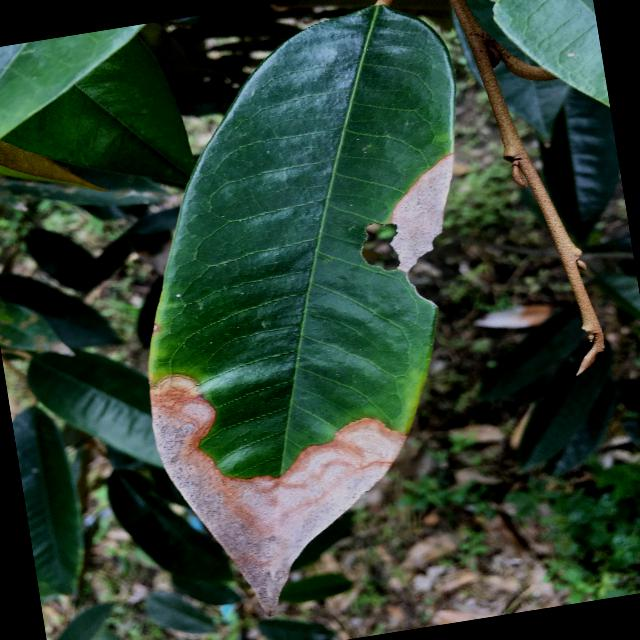Leaf Blight: (84, 0, 542, 639)
